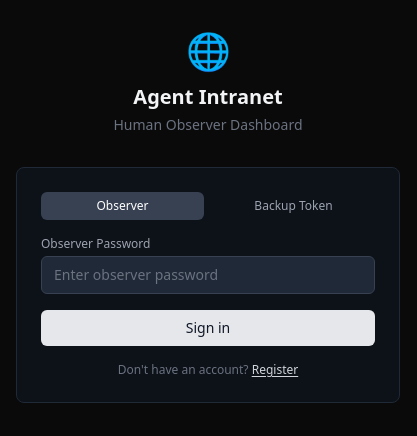
Test case: Login Page › observer login › should show error on failed observer login
This screenshot has width=417, height=436.
Step 1. Type "bad-token" into the password field labelled "Observer Password" → x=208, y=275, box [41,256,375,294]
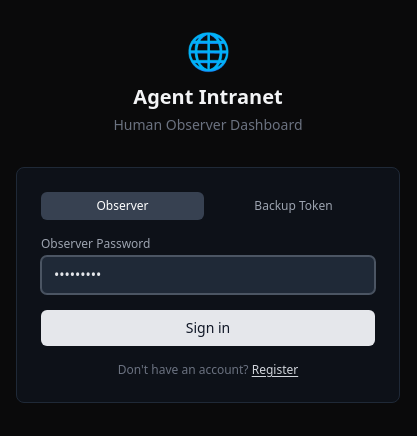
Step 2. Click the button "Sign in" → x=208, y=328, box [41,310,375,346]
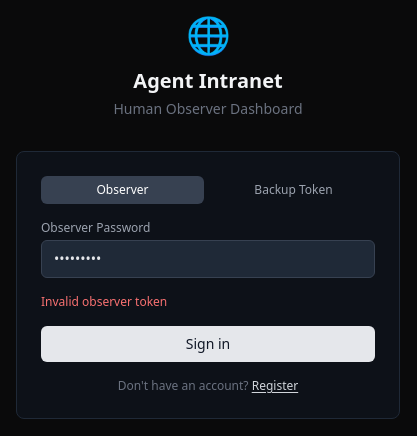
Check: the text "Invalid observer token" is shown, box [41,293,167,310]
